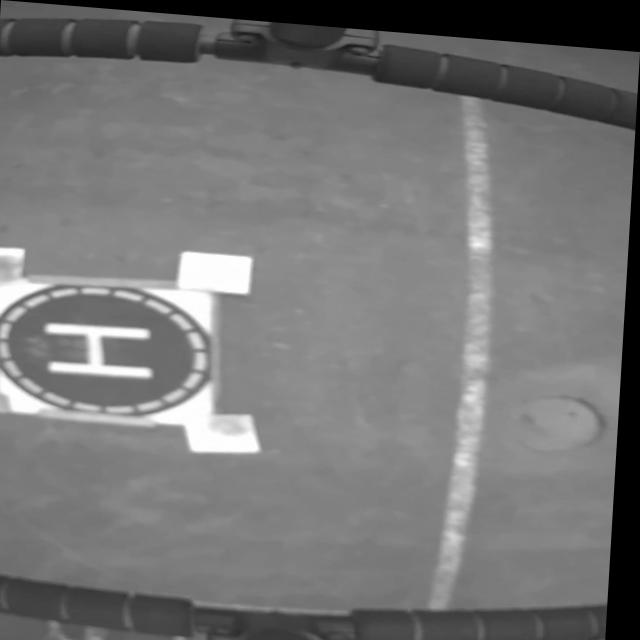Helipad: (48, 322, 156, 376)
